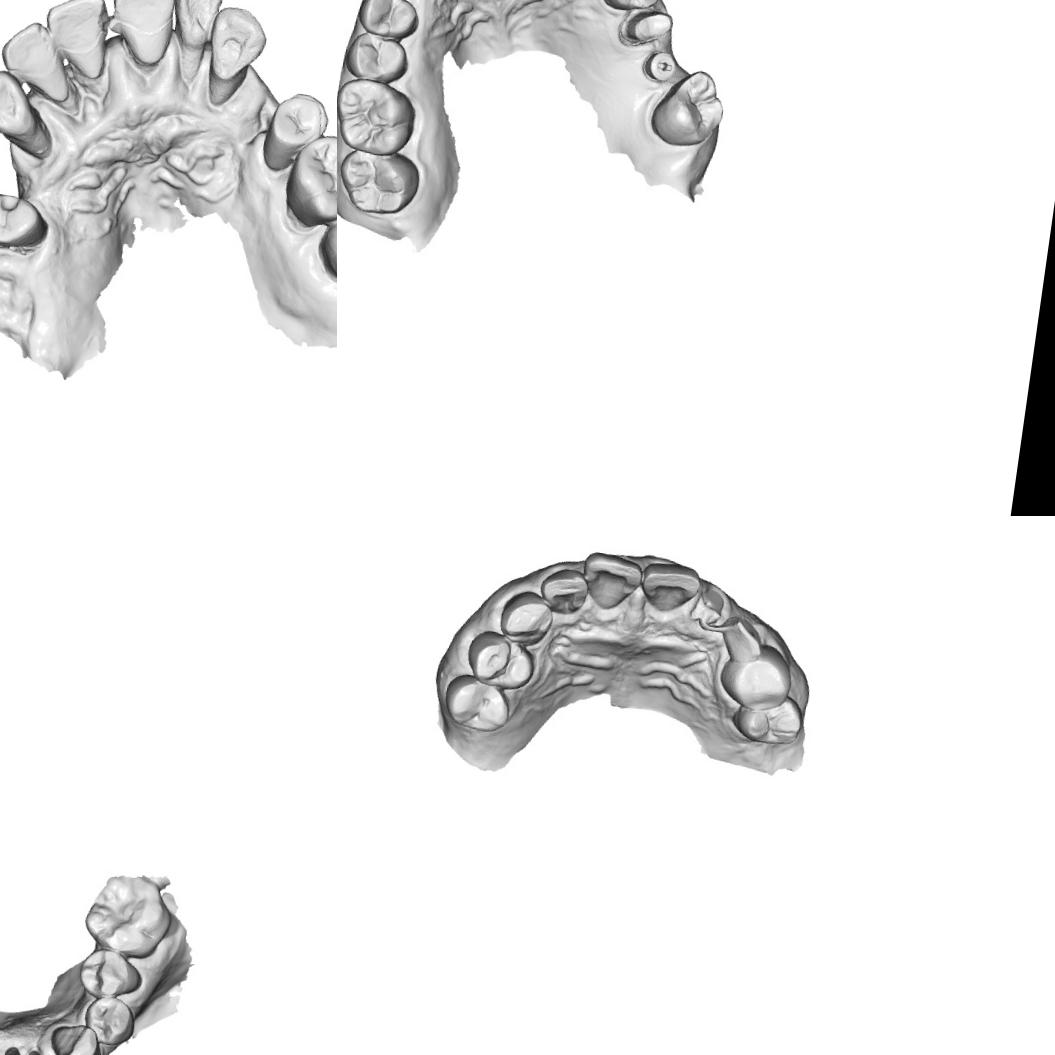abutment: (21, 1048, 51, 1055)
canine: (202, 1, 272, 88), (495, 586, 558, 649), (0, 66, 47, 146), (46, 1018, 105, 1055)
crown: (614, 2, 678, 54)
implant_minus: (638, 47, 681, 88)
incisor: (0, 15, 67, 93), (577, 550, 646, 617), (38, 0, 112, 61), (638, 557, 705, 617), (103, 0, 177, 47), (164, 0, 229, 49), (536, 564, 592, 618)
molar: (80, 868, 178, 961), (647, 62, 730, 154), (337, 74, 421, 162), (337, 144, 425, 221), (279, 129, 337, 231), (315, 188, 337, 287)
premolar: (716, 638, 797, 716), (438, 669, 518, 737), (728, 686, 808, 752), (464, 626, 540, 694), (263, 86, 331, 161), (340, 28, 414, 88), (75, 945, 147, 1005), (0, 185, 49, 255), (80, 992, 139, 1048), (351, 0, 424, 43), (598, 0, 665, 15)
